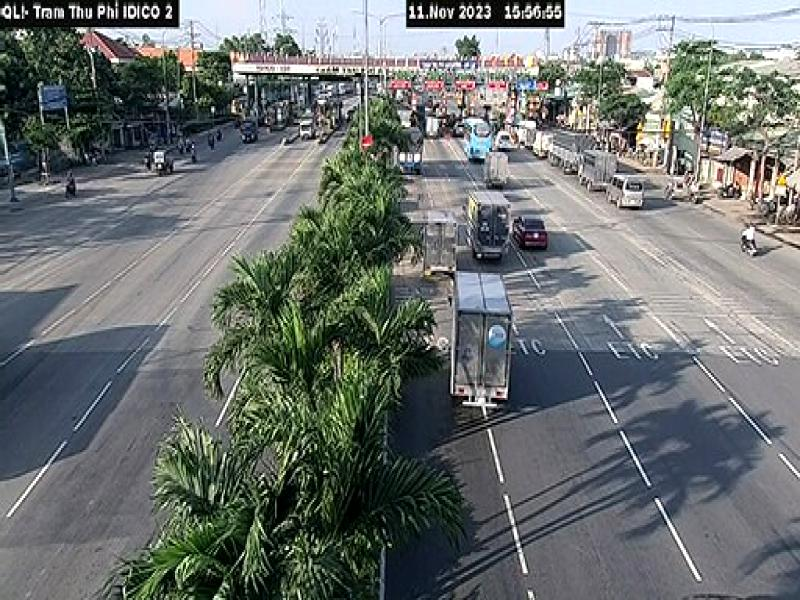truck: (448, 269, 513, 416), (415, 207, 459, 282), (469, 184, 513, 258), (576, 146, 620, 193)
